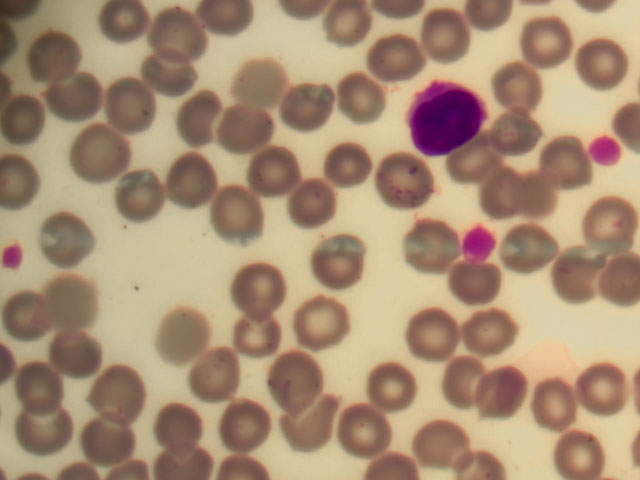Platelets: (589, 132, 624, 167), (461, 228, 496, 260), (3, 241, 24, 267)
RBC: (433, 355, 491, 410), (473, 371, 531, 426), (517, 379, 575, 434), (572, 361, 630, 416), (364, 358, 422, 413), (292, 292, 350, 347), (302, 236, 360, 291), (272, 352, 330, 407), (210, 392, 268, 447), (289, 390, 347, 445), (326, 406, 384, 461), (416, 414, 474, 469), (548, 425, 606, 480), (25, 29, 80, 85), (55, 72, 110, 128), (5, 92, 60, 148), (67, 125, 122, 181), (98, 81, 153, 137), (137, 49, 192, 105), (155, 5, 210, 61), (239, 52, 294, 108), (217, 100, 272, 156), (171, 86, 226, 142), (165, 161, 220, 217), (111, 164, 166, 220), (208, 182, 263, 238), (45, 212, 100, 268), (49, 259, 104, 315), (10, 286, 65, 342), (51, 320, 106, 376), (19, 348, 74, 404), (20, 386, 75, 442), (91, 365, 146, 421), (81, 416, 136, 472), (148, 400, 203, 456), (190, 352, 245, 408), (157, 307, 212, 363), (233, 310, 288, 366), (234, 256, 289, 312), (288, 174, 343, 230), (246, 140, 301, 196), (320, 133, 375, 189), (337, 67, 392, 123), (372, 34, 427, 90), (417, 8, 472, 64), (525, 12, 580, 68), (488, 60, 543, 116), (578, 33, 633, 89), (488, 95, 543, 151), (458, 133, 513, 189), (477, 162, 532, 218), (502, 170, 557, 226), (534, 138, 589, 194), (585, 194, 640, 250), (543, 245, 598, 301), (505, 225, 560, 281), (455, 262, 510, 318), (403, 219, 458, 275), (381, 148, 436, 204), (410, 308, 465, 364), (466, 301, 521, 357), (92, 1, 147, 56), (594, 255, 640, 311), (286, 82, 327, 127)
WBC: (410, 77, 488, 155)
